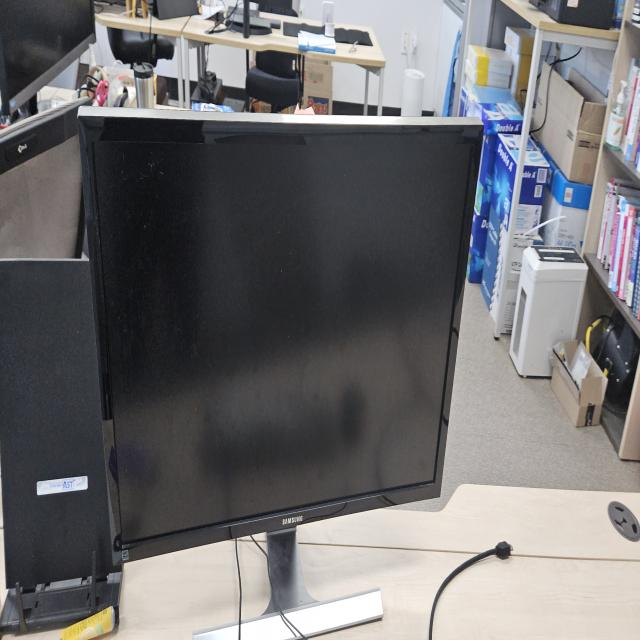Monitor: (75, 100, 485, 630)
